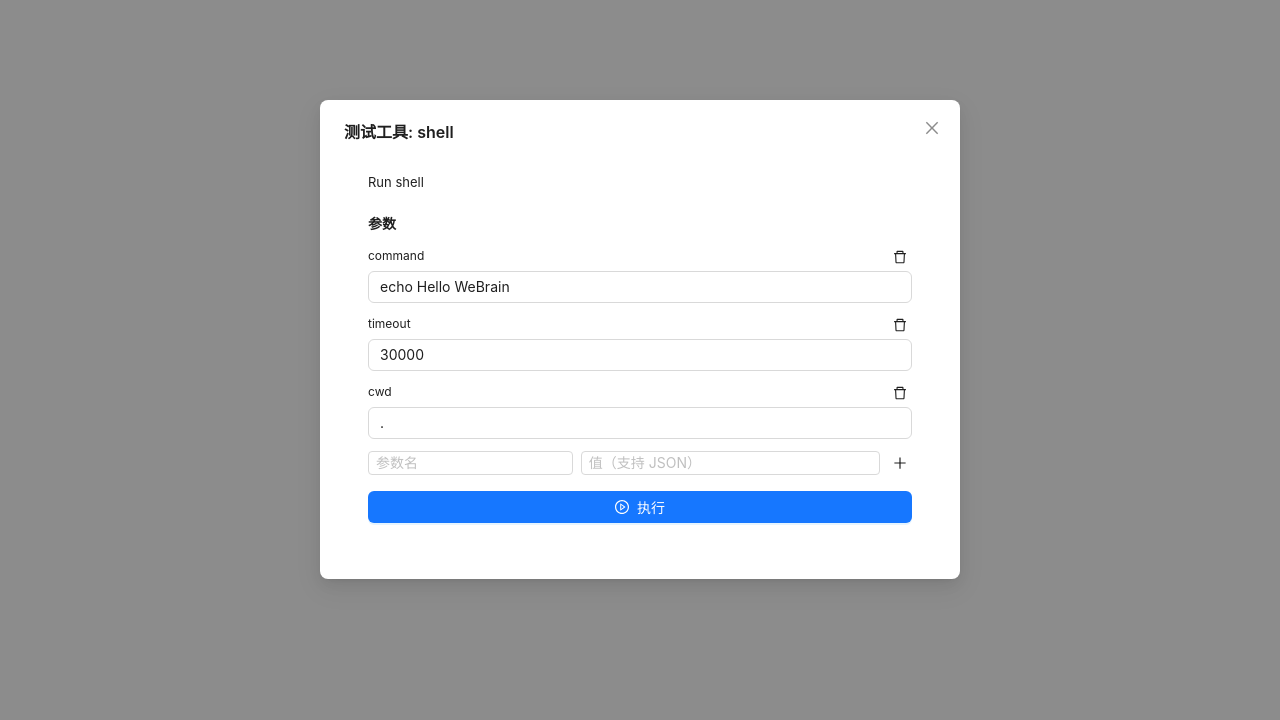
ToolExecutorModal › handles execution exception
Click the button "执行".
click(640, 507)  # box [368,491,912,523]
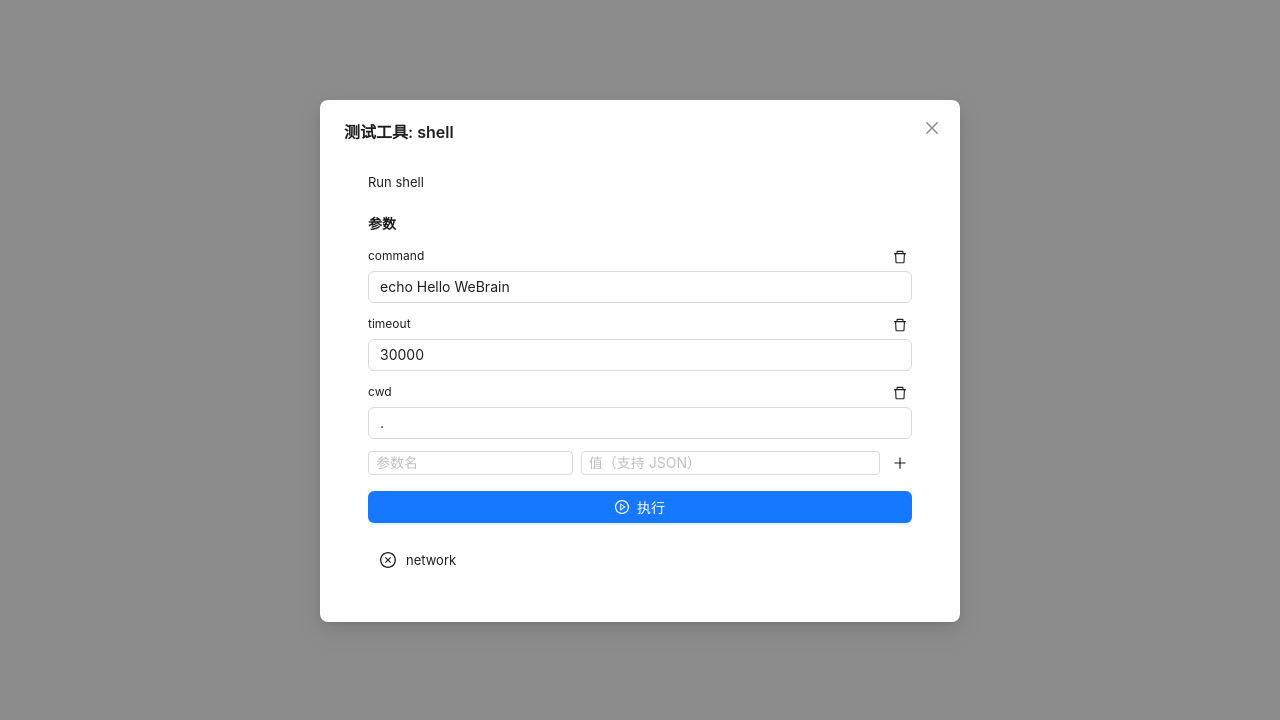
Expected: the text "network" is shown, [406,551,456,570]
